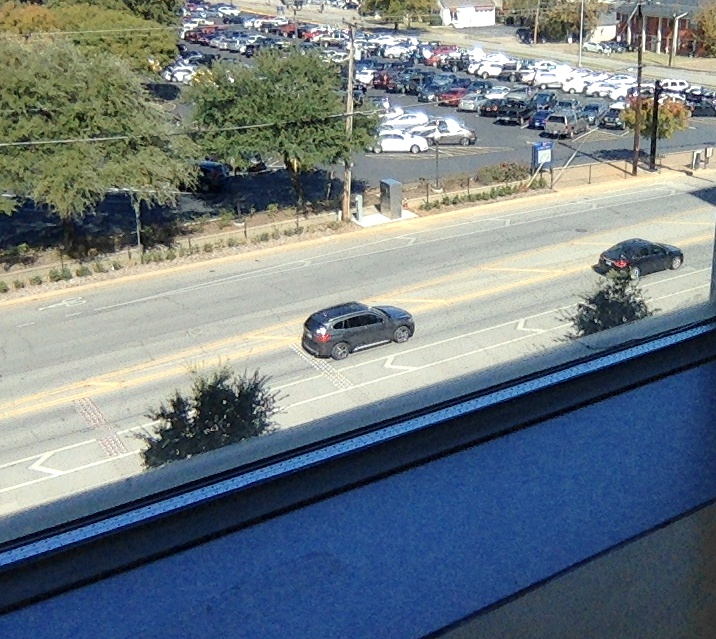car: (300, 300, 416, 361)
